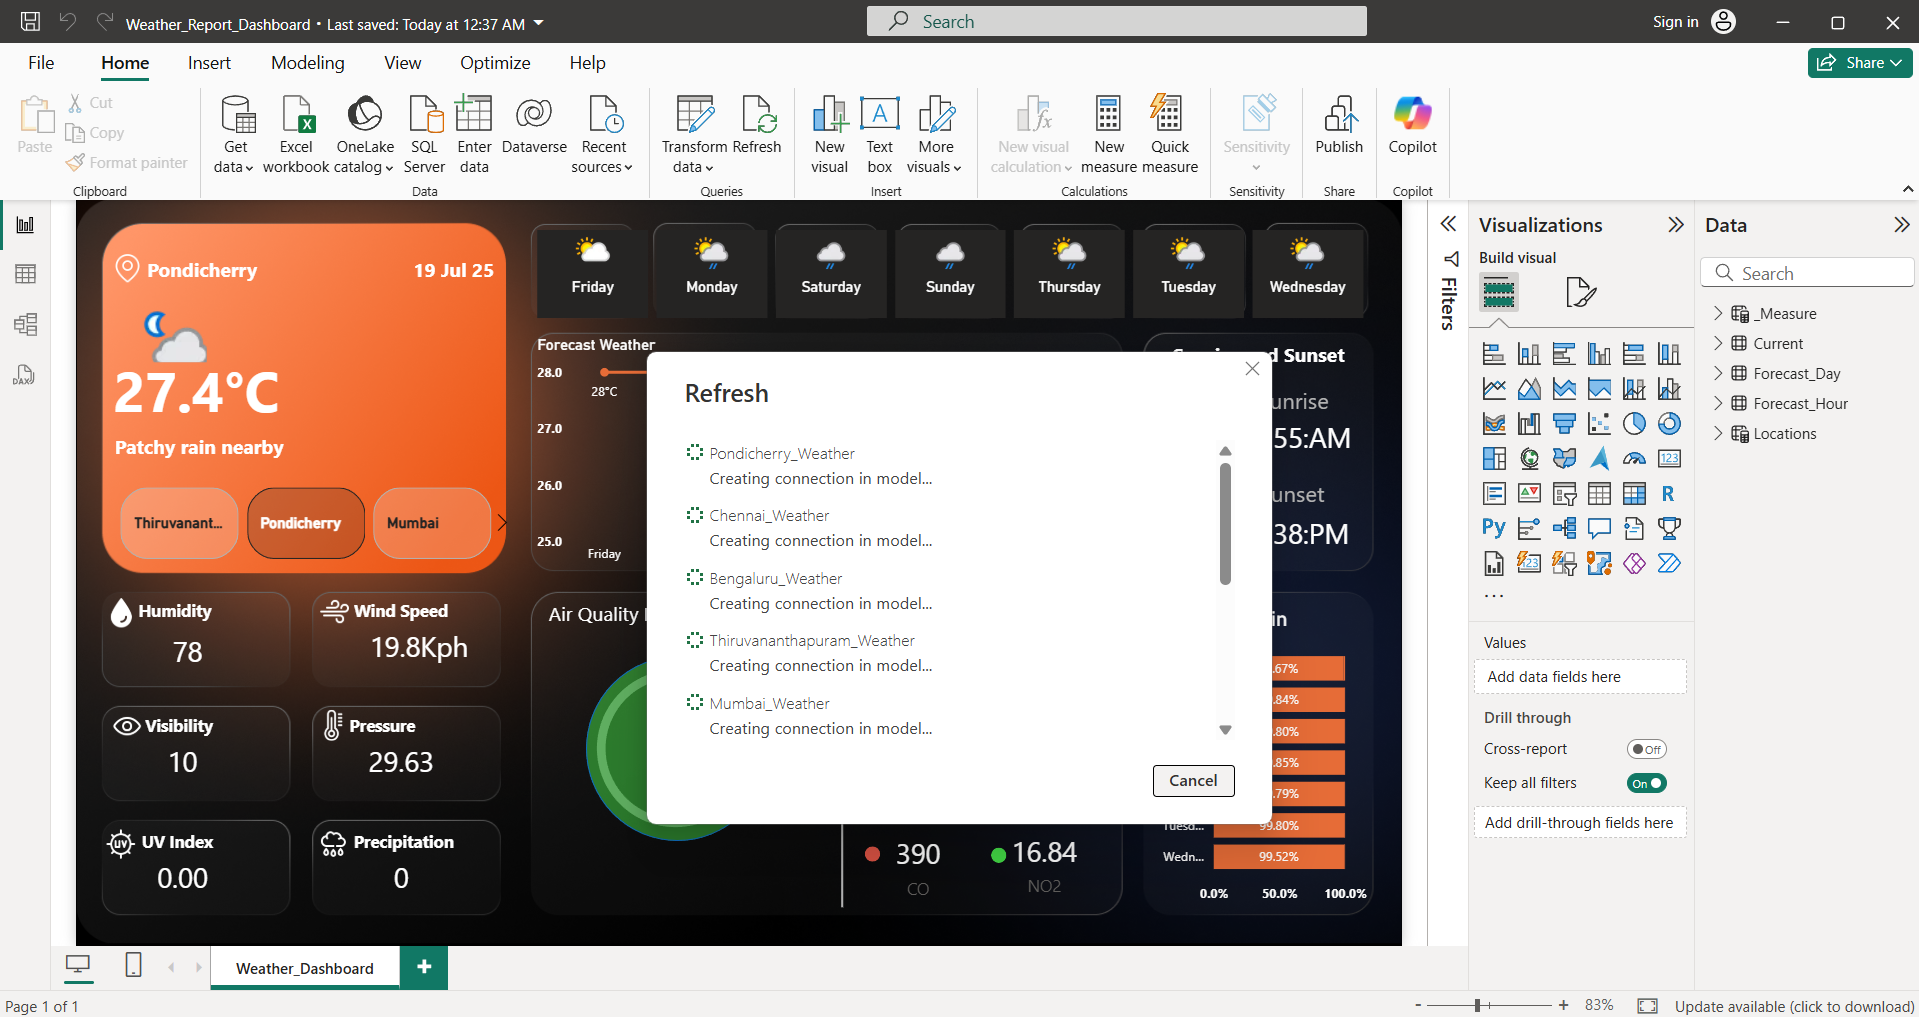

The dashboard page shown, as its layout file describes it:
{"tool":"powerbi","page":{"name":"Weather_Dashboard","canvas":[1280,720],"ordinal":0},"visuals":[{"type":"donutChart","fields":{"Y":["Sum(Current.current.air_quality.pm10)","_Measure.Left_value_PM10"]},"box":[468.3,430,221.7,200],"z":0},{"type":"shape","box":[491.7,440,176.7,178.3],"z":1000},{"type":"advancedSlicerVisual","fields":{"Values":["Locations.location.name"]},"box":[17.9,273.1,408.1,79.7],"z":2000},{"type":"shape","box":[35.8,126.8,190.2,110.6],"z":3000},{"type":"shape","box":[37,217.2,188.1,41.3],"z":4000},{"type":"shape","box":[68.3,45.5,188.6,40.6],"z":5000},{"type":"shape","box":[250.4,45.5,152.8,40.6],"z":6000},{"type":"image","box":[30.9,45.5,37.4,40.6],"z":7000},{"type":"cardVisual","fields":{"Data":["Min(Current.current.condition.icon)"]},"box":[35.8,86.2,95.9,76.4],"z":8000},{"type":"image","box":[24.4,487.7,50.4,40.6],"z":9000},{"type":"image","box":[222.7,601.5,50.4,39],"z":10000},{"type":"image","box":[17.9,601.5,50.4,39],"z":11000},{"type":"image","box":[224.4,377.2,50.4,39],"z":12000},{"type":"image","box":[19.5,378.8,48.8,39],"z":13000},{"type":"image","box":[222.7,487.7,50.4,39],"z":14000},{"type":"textbox","box":[43.9,380.4,104,37.4],"z":15000},{"type":"textbox","box":[248.7,380.4,115.4,37.4],"z":16000},{"type":"textbox","box":[50.4,491,97.5,37.4],"z":17000},{"type":"textbox","box":[250.4,491,89.4,37.4],"z":18000},{"type":"textbox","box":[48.8,603.2,99.2,37.4],"z":19000},{"type":"textbox","box":[263.4,603.2,123.6,37.4],"z":20000},{"type":"card","fields":{"Values":["Sum(Current.current.humidity)"]},"box":[68.3,400,78.3,71.7],"z":21000},{"type":"card","fields":{"Values":["_Measure.Wind_Speed"]},"box":[274.8,399.9,112.2,65],"z":22000},{"type":"card","fields":{"Values":["Sum(Current.current.pressure_in)"]},"box":[274.8,510.5,78,65],"z":23000},{"type":"card","fields":{"Values":["Sum(Current.current.vis_km)"]},"box":[63.4,510.5,78,65],"z":24000},{"type":"card","fields":{"Values":["Sum(Current.current.uv)"]},"box":[63.4,622.7,78,65],"z":25000},{"type":"card","fields":{"Values":["Sum(Current.current.precip_mm)"]},"box":[274.8,622.7,78,65],"z":26000},{"type":"advancedSlicerVisual","fields":{"Values":["Forecast_Day.Day_Name"]},"box":[440.6,24.4,811.3,95.9],"z":27000},{"type":"lineChart","title":"Forecast Weather","fields":{"Y":["Sum(Forecast_Day.forecast.forecastday.day.avgtemp_c)"],"Category":["Forecast_Day.Day_Name"]},"box":[440,131.7,570,228.3],"z":28000},{"type":"textbox","box":[1031.7,131.7,220,50],"z":29000},{"type":"shape","box":[1120.8,209.9,136.3,37.4],"z":30000},{"type":"shape","box":[1120.6,303.3,136.7,36.7],"z":31000},{"type":"textbox","box":[1120.6,173.3,108.3,53.3],"z":32000},{"type":"textbox","box":[1078.9,263.3,190,58.3],"z":33000},{"type":"image","box":[1031.7,268.3,70,70],"z":34000},{"type":"image","box":[1031.7,181.7,70,56.7],"z":35000},{"type":"textbox","box":[451.7,381.7,220,50],"z":36000},{"type":"card","fields":{"Values":["Sum(Current.current.air_quality.pm10)"]},"box":[761.7,416.7,103.3,71.7],"z":37000},{"type":"card","fields":{"Values":["Sum(Current.current.air_quality.pm2_5)"]},"box":[883.3,505,103.3,76.7],"z":38000},{"type":"card","fields":{"Values":["Sum(Current.current.air_quality.no2)"]},"box":[883.3,601.7,103.3,76.7],"z":39000},{"type":"card","fields":{"Values":["Sum(Current.current.air_quality.o3)"]},"box":[883.3,411.7,103.3,76.7],"z":40000},{"type":"card","fields":{"Values":["Sum(Current.current.air_quality.so2)"]},"box":[761.1,505,103.3,71.7],"z":41000},{"type":"card","fields":{"Values":["Sum(Current.current.air_quality.co)"]},"box":[761.1,606.7,103.3,71.7],"z":42000},{"type":"shape","box":[761.1,431.7,15,15],"z":43000},{"type":"shape","box":[761.1,623.3,15,15],"z":44000},{"type":"shape","box":[761.1,528.3,15,15],"z":45000},{"type":"shape","box":[883.3,435,15,15],"z":46000},{"type":"shape","box":[883.3,526.7,15,15],"z":47000},{"type":"shape","box":[883.3,625,15,15],"z":48000},{"type":"shape","box":[718.3,416.7,43.3,266.7],"z":49000},{"type":"card","fields":{"Values":["Sum(Current.current.air_quality.pm10)"]},"box":[518.3,491.7,121.7,78.3],"z":50000},{"type":"hundredPercentStackedBarChart","title":"Chance of Rain","fields":{"Category":["Forecast_Day.Day_Name"],"Y":["Sum(Forecast_Hour.forecast.forecastday.hour.chance_of_rain)","_Measure.Left_value_Rain"]},"box":[1030.3,392.1,220.8,295.6],"z":51000}]}

Visuals, with their boxes on the page's 1280x720 design canvas (x1, y1, x2, y2). These are canvas units, not pixel positions in the 1919x1017 screenshot, which may show the page scaled, cropped or inside an application window:
donutChart - Sum(Current.current.air_quality.pm10) x _Measure.Left_value_PM10: x1=468 y1=430 x2=690 y2=630
shape: x1=492 y1=440 x2=668 y2=618
advancedSlicerVisual - Locations.location.name: x1=18 y1=273 x2=426 y2=353
shape: x1=36 y1=127 x2=226 y2=237
shape: x1=37 y1=217 x2=225 y2=258
shape: x1=68 y1=46 x2=257 y2=86
shape: x1=250 y1=46 x2=403 y2=86
image: x1=31 y1=46 x2=68 y2=86
cardVisual - Min(Current.current.condition.icon): x1=36 y1=86 x2=132 y2=163
image: x1=24 y1=488 x2=75 y2=528
image: x1=223 y1=602 x2=273 y2=640
image: x1=18 y1=602 x2=68 y2=640
image: x1=224 y1=377 x2=275 y2=416
image: x1=20 y1=379 x2=68 y2=418
image: x1=223 y1=488 x2=273 y2=527
textbox: x1=44 y1=380 x2=148 y2=418
textbox: x1=249 y1=380 x2=364 y2=418
textbox: x1=50 y1=491 x2=148 y2=528
textbox: x1=250 y1=491 x2=340 y2=528
textbox: x1=49 y1=603 x2=148 y2=641
textbox: x1=263 y1=603 x2=387 y2=641
card - Sum(Current.current.humidity): x1=68 y1=400 x2=147 y2=472
card - _Measure.Wind_Speed: x1=275 y1=400 x2=387 y2=465
card - Sum(Current.current.pressure_in): x1=275 y1=510 x2=353 y2=576
card - Sum(Current.current.vis_km): x1=63 y1=510 x2=141 y2=576
card - Sum(Current.current.uv): x1=63 y1=623 x2=141 y2=688
card - Sum(Current.current.precip_mm): x1=275 y1=623 x2=353 y2=688
advancedSlicerVisual - Forecast_Day.Day_Name: x1=441 y1=24 x2=1252 y2=120
"Forecast Weather" lineChart: x1=440 y1=132 x2=1010 y2=360
textbox: x1=1032 y1=132 x2=1252 y2=182
shape: x1=1121 y1=210 x2=1257 y2=247
shape: x1=1121 y1=303 x2=1257 y2=340
textbox: x1=1121 y1=173 x2=1229 y2=227
textbox: x1=1079 y1=263 x2=1269 y2=322
image: x1=1032 y1=268 x2=1102 y2=338
image: x1=1032 y1=182 x2=1102 y2=238
textbox: x1=452 y1=382 x2=672 y2=432
card - Sum(Current.current.air_quality.pm10): x1=762 y1=417 x2=865 y2=488
card - Sum(Current.current.air_quality.pm2_5): x1=883 y1=505 x2=987 y2=582
card - Sum(Current.current.air_quality.no2): x1=883 y1=602 x2=987 y2=678
card - Sum(Current.current.air_quality.o3): x1=883 y1=412 x2=987 y2=488
card - Sum(Current.current.air_quality.so2): x1=761 y1=505 x2=864 y2=577
card - Sum(Current.current.air_quality.co): x1=761 y1=607 x2=864 y2=678
shape: x1=761 y1=432 x2=776 y2=447
shape: x1=761 y1=623 x2=776 y2=638
shape: x1=761 y1=528 x2=776 y2=543
shape: x1=883 y1=435 x2=898 y2=450
shape: x1=883 y1=527 x2=898 y2=542
shape: x1=883 y1=625 x2=898 y2=640
shape: x1=718 y1=417 x2=762 y2=683
card - Sum(Current.current.air_quality.pm10): x1=518 y1=492 x2=640 y2=570
"Chance of Rain" hundredPercentStackedBarChart: x1=1030 y1=392 x2=1251 y2=688
